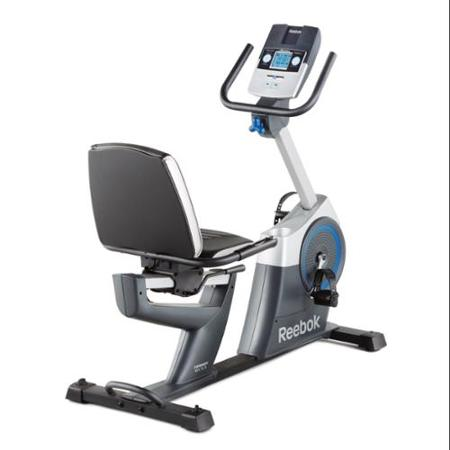gym_bike: (53, 19, 384, 433)
